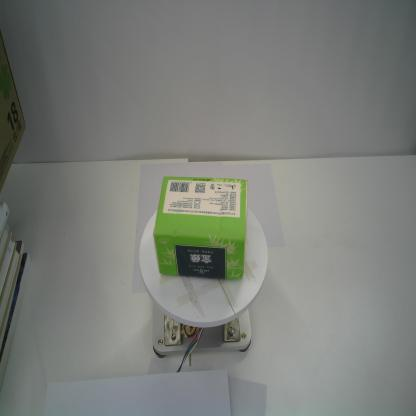Tissue: (152, 174, 249, 283)
